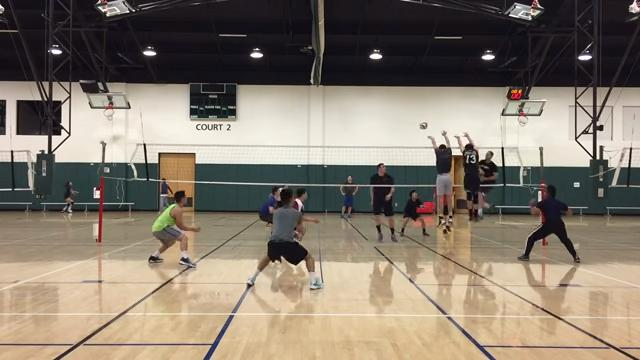Attack: (474, 143, 500, 224)
Block: (452, 126, 486, 225), (426, 126, 456, 229)
Player: (247, 188, 323, 289), (518, 185, 580, 262), (148, 191, 199, 267), (370, 163, 396, 241), (400, 190, 428, 236), (292, 188, 318, 222), (259, 186, 279, 224), (340, 175, 358, 217)
ball: (417, 121, 428, 132)
